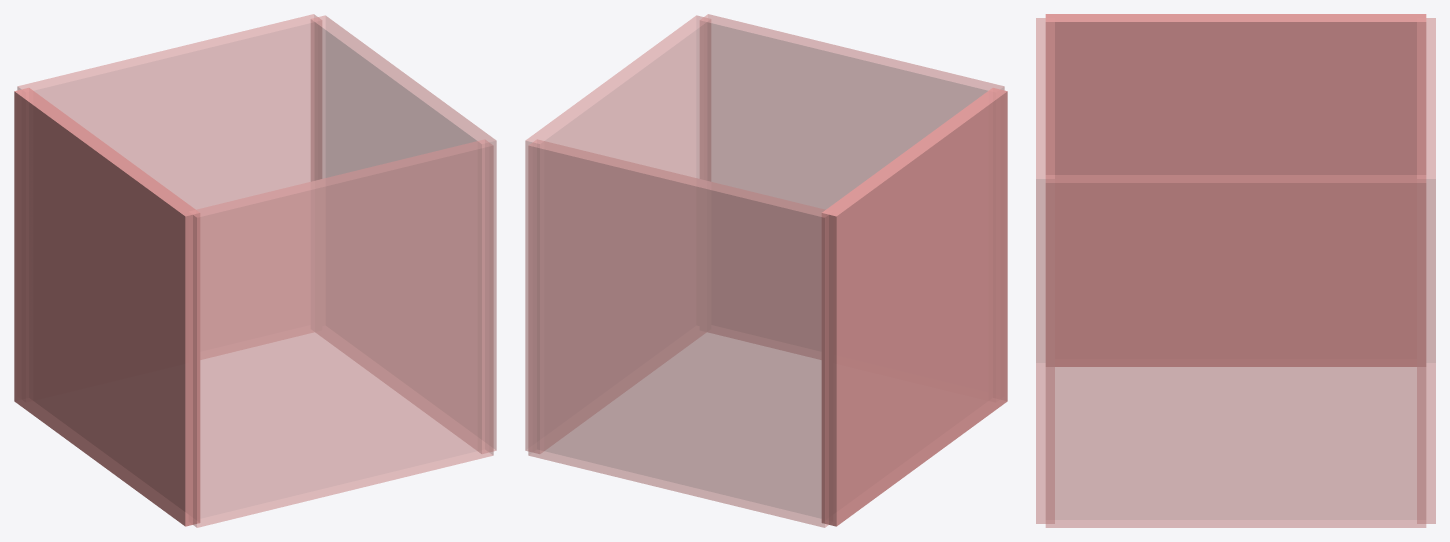
File: casa_step5.glb
3 views of the same model, side by side, from view 1: azimuth 30°, elevation 25°; view 2: azimuth 150°, elevation 25°; view 3: azimuth 270°, elevation 25° (orthographic). The views are drawn at different scales.
Visible parts, largest first — view 1: qN, qW, qE, qS; view 2: qS, qW, qE, qN; view 3: qE, qW, qN, qS.
Part boxes in pixels (left/top/right/bottom): qN: left=189, top=139, right=493, bottom=527; qW: left=14, top=87, right=200, bottom=526; qE: left=311, top=15, right=496, bottom=453; qS: left=17, top=14, right=321, bottom=359; qS: left=528, top=139, right=832, bottom=527; qW: left=821, top=87, right=1007, bottom=526; qE: left=525, top=15, right=710, bottom=453; qN: left=700, top=14, right=1004, bottom=359; qE: left=1045, top=175, right=1426, bottom=527; qW: left=1045, top=14, right=1426, bottom=366; qN: left=1036, top=18, right=1054, bottom=523; qS: left=1417, top=18, right=1435, bottom=523.
Size of the model in its own units: 1.05 by 1 by 1.05.
